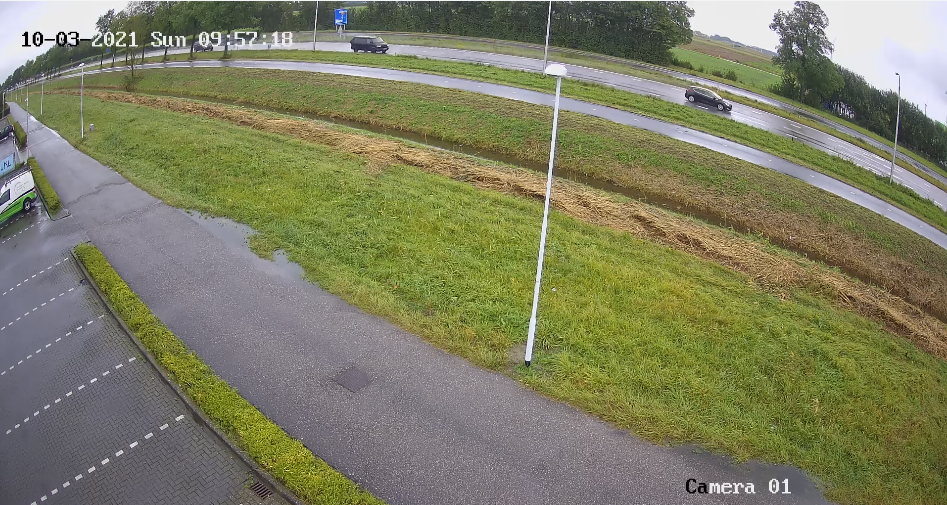werkbus: (347, 32, 392, 54)
